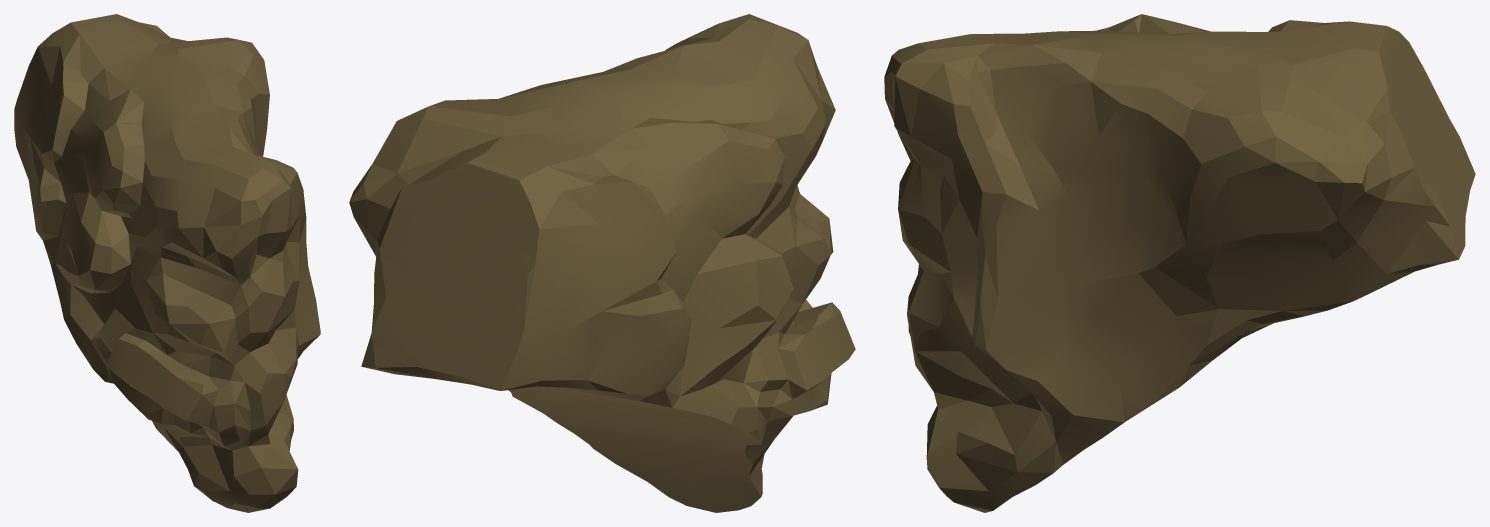
File: sallyhands_002_left_palm.fbx
The picture shows the model from 3 angles, left to right: view 1: azimuth 30°, elevation 25°; view 2: azimuth 150°, elevation 25°; view 3: azimuth 270°, elevation 25°; orthographic projection. The views are drawn at different scales.
Visible parts, largest first — view 1: left_palm; view 2: left_palm; view 3: left_palm.
Boxes of the visible parts, box(x1,y1,x2,y2) form: left_palm: box(14, 14, 320, 512); left_palm: box(349, 14, 855, 512); left_palm: box(884, 14, 1475, 512).
Bounding box in the file's own units: 0.3391 × 0.5116 × 0.5818.
